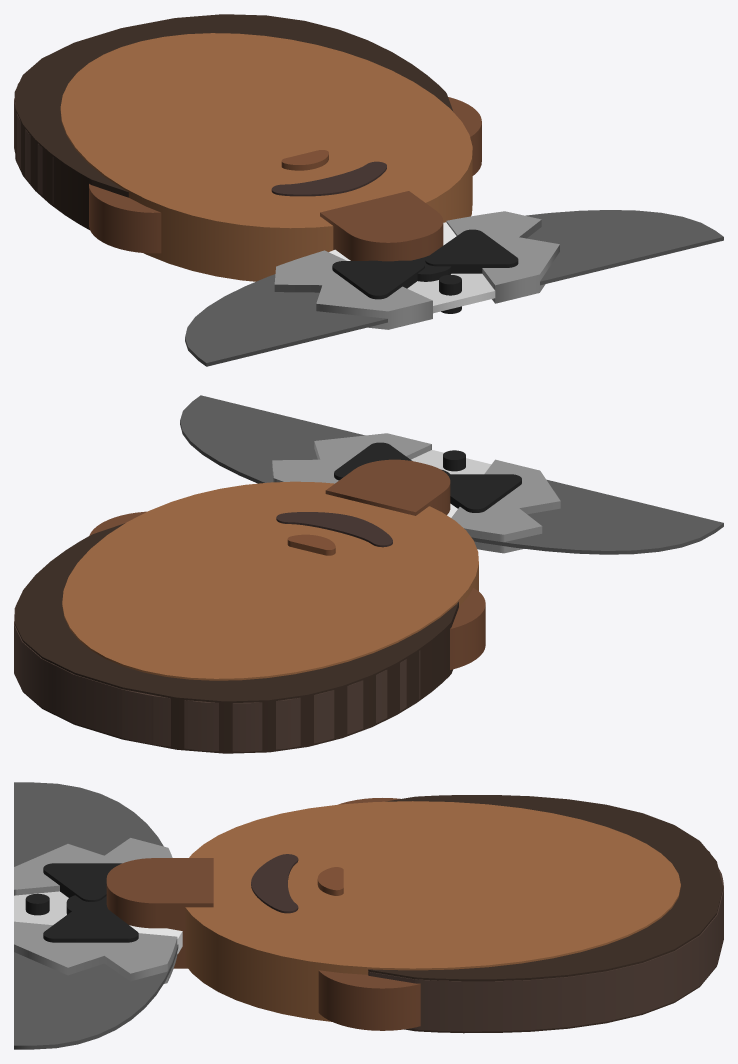
The model's file is emoji_u1f935_1f3fe_200d_2642.glb.
3 views of the same model, one above another, from view 1: azimuth 30°, elevation 25°; view 2: azimuth 150°, elevation 25°; view 3: azimuth 270°, elevation 25° (orthographic). The views are drawn at different scales.
Parts seen in each view (by area): view 1: emoji_u1f935_1f3fe_200d_2642; view 2: emoji_u1f935_1f3fe_200d_2642; view 3: emoji_u1f935_1f3fe_200d_2642.
Boxes of the visible parts, x1=… form: emoji_u1f935_1f3fe_200d_2642: x1=14, y1=14, x2=723, y2=366; emoji_u1f935_1f3fe_200d_2642: x1=14, y1=395, x2=723, y2=753; emoji_u1f935_1f3fe_200d_2642: x1=14, y1=782, x2=723, y2=1049.
Bounding box in the file's own units: 0.0294 × 0.0036 × 0.0334.
